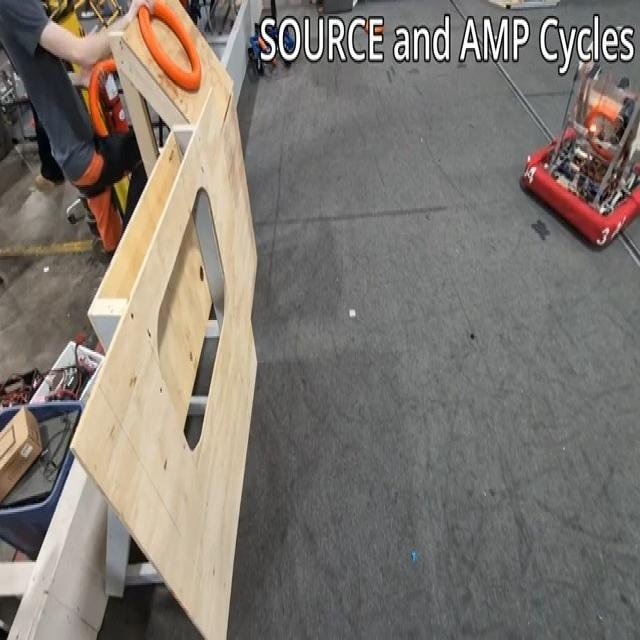note: (137, 0, 204, 95), (87, 58, 126, 136)
robot: (522, 54, 640, 250)
